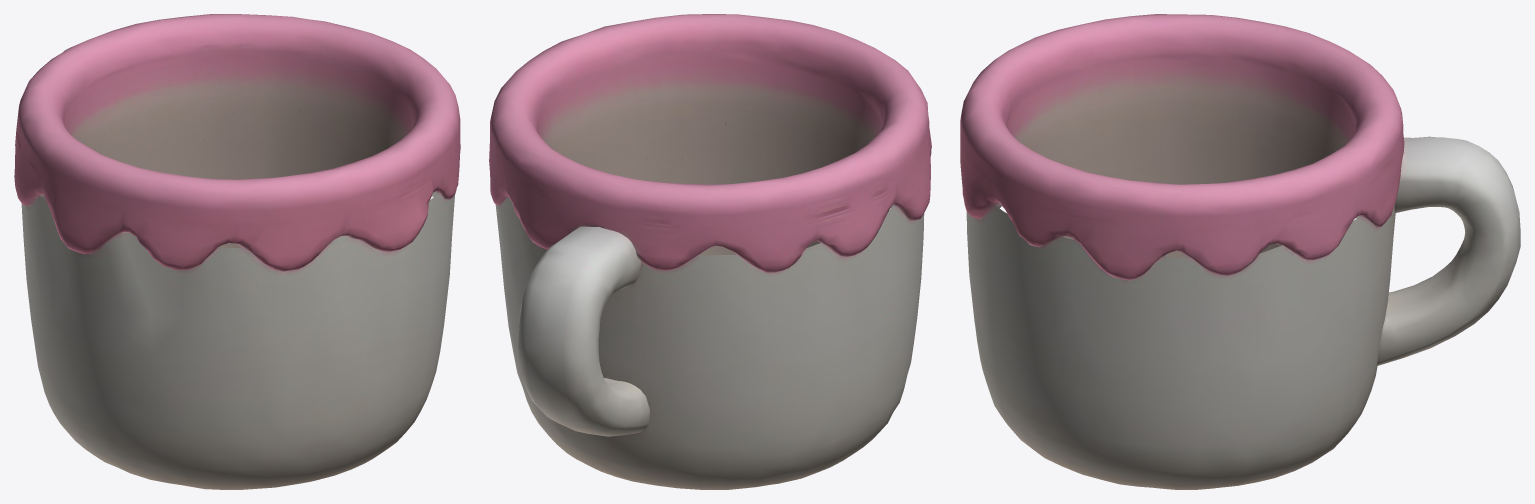
File: mug.glb
The picture shows the model from 3 angles, left to right: view 1: azimuth 30°, elevation 25°; view 2: azimuth 150°, elevation 25°; view 3: azimuth 270°, elevation 25°; orthographic projection.
Visible parts, largest first — view 1: tripo_node_e5ddfb9d-3cfa-40dd-a14b-62a4dbe4bad2; view 2: tripo_node_e5ddfb9d-3cfa-40dd-a14b-62a4dbe4bad2; view 3: tripo_node_e5ddfb9d-3cfa-40dd-a14b-62a4dbe4bad2.
Boxes of the visible parts, bbox=[...] form: tripo_node_e5ddfb9d-3cfa-40dd-a14b-62a4dbe4bad2: bbox=[14, 14, 460, 489]; tripo_node_e5ddfb9d-3cfa-40dd-a14b-62a4dbe4bad2: bbox=[489, 14, 931, 489]; tripo_node_e5ddfb9d-3cfa-40dd-a14b-62a4dbe4bad2: bbox=[960, 14, 1520, 489].
Size of the model in its own units: 0.791 by 0.6582 by 0.998.
Materials: 1 (1 with a texture image).
